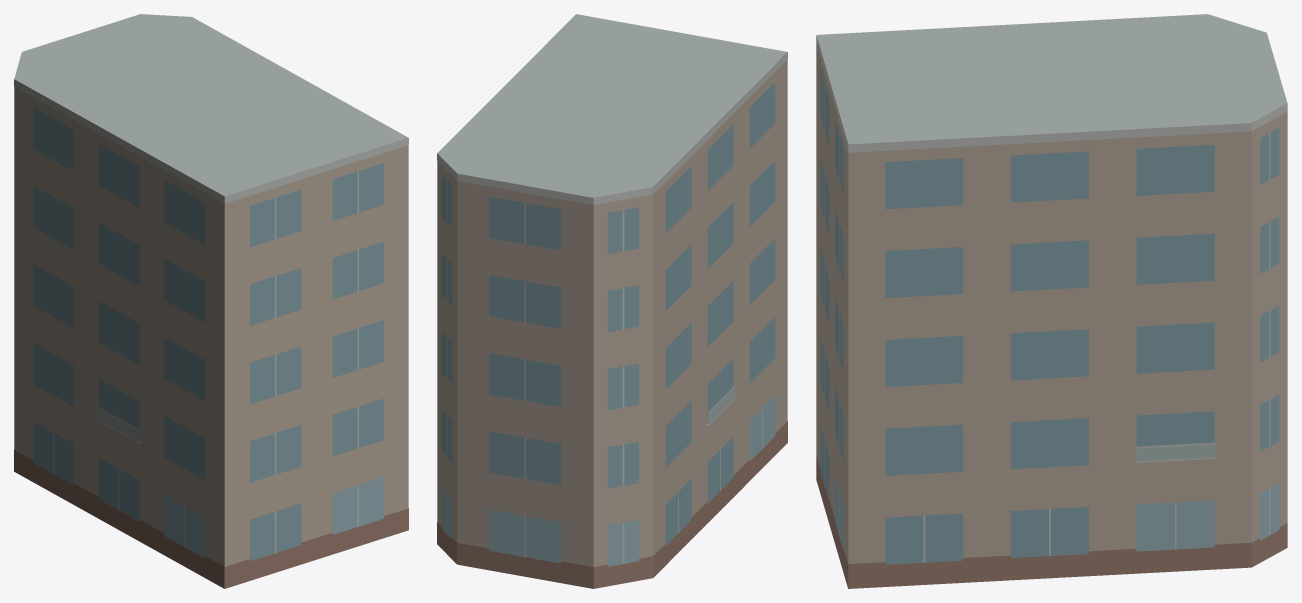
Rendered from survey-upis-32914181.glb.
3 views of the same model, side by side, from view 1: azimuth 30°, elevation 25°; view 2: azimuth 150°, elevation 25°; view 3: azimuth 270°, elevation 25° (orthographic). The views are drawn at different scales.
Parts seen in each view (by area): view 1: survey-upis-32914181.tmp; view 2: survey-upis-32914181.tmp; view 3: survey-upis-32914181.tmp.
Boxes of the visible parts, bbox=[...] form: survey-upis-32914181.tmp: bbox=[14, 14, 408, 588]; survey-upis-32914181.tmp: bbox=[437, 14, 787, 588]; survey-upis-32914181.tmp: bbox=[816, 14, 1287, 588].
Size of the model in its own units: 8.22 by 13.05 by 12.55.
